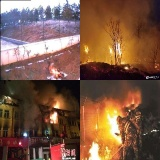fire: (107, 107, 124, 143), (44, 61, 66, 80), (88, 143, 100, 159), (115, 41, 123, 56), (49, 112, 58, 124), (154, 60, 159, 71), (109, 45, 113, 56), (53, 102, 59, 109), (84, 46, 89, 53), (121, 61, 125, 65), (125, 67, 129, 69)
